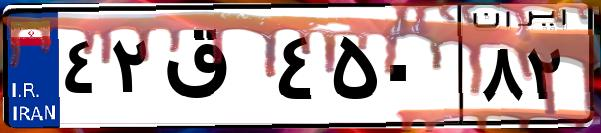0: (385, 28, 445, 110)
2: (525, 38, 570, 115), (110, 28, 158, 98)
4: (270, 28, 330, 110), (57, 26, 110, 100)
5: (330, 28, 385, 110)
8: (475, 38, 525, 113)
ق: (158, 20, 270, 120)
